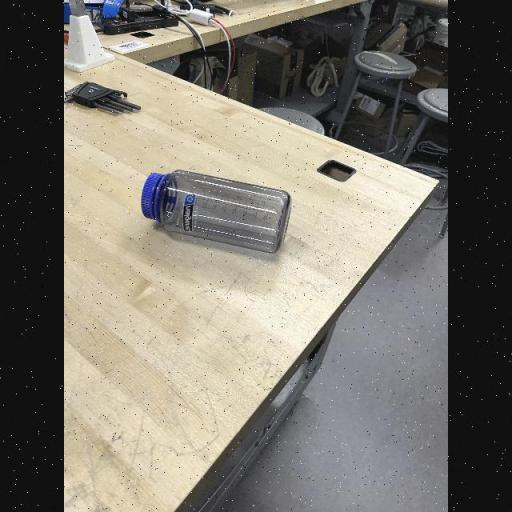bottle: (141, 170, 292, 254)
